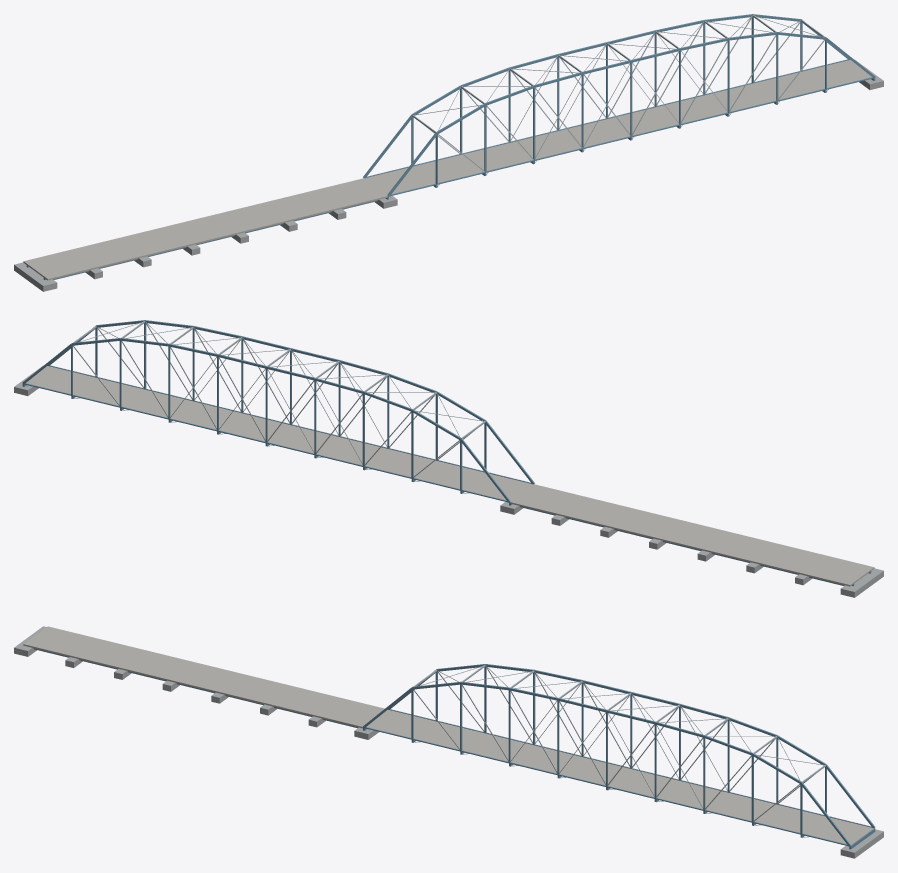
Rendered from bridge.glb.
The picture shows the model from 3 angles, top to bottom: view 1: azimuth 30°, elevation 25°; view 2: azimuth 150°, elevation 25°; view 3: azimuth 330°, elevation 25°; orthographic projection.
Parts seen in each view (by area): view 1: deck_001, deck_002, bearing_block_009; view 2: deck_001, deck_002, bearing_block_009; view 3: deck_001, deck_002, bearing_block_002.
Part boxes in pixels (x1=…): deck_001: x1=364, y1=60, x2=871, y2=194; deck_002: x1=23, y1=178, x2=387, y2=280; bearing_block_009: x1=14, y1=262, x2=57, y2=291; deck_001: x1=26, y1=366, x2=533, y2=500; deck_002: x1=510, y1=484, x2=874, y2=586; bearing_block_009: x1=840, y1=568, x2=883, y2=597; deck_001: x1=366, y1=710, x2=873, y2=845; deck_002: x1=23, y1=626, x2=384, y2=728; bearing_block_002: x1=840, y1=829, x2=883, y2=858.
Size of the model in its own units: 89.59 by 8.73 by 5.4.
